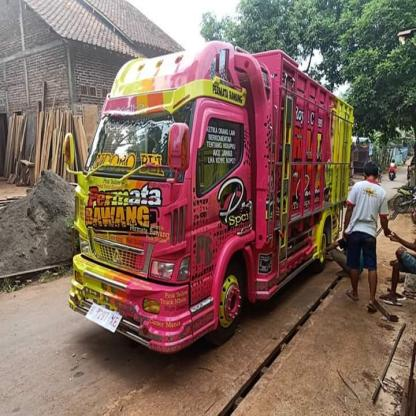truck: (64, 42, 355, 355)
